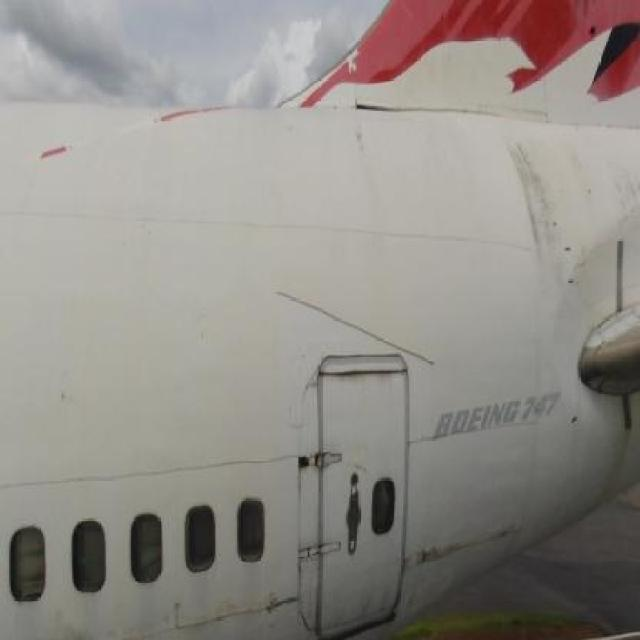Rust: (503, 134, 577, 288), (600, 138, 640, 237), (414, 528, 517, 563), (321, 365, 408, 400), (606, 399, 634, 495), (351, 568, 392, 622)
Scartch: (258, 574, 298, 623), (168, 593, 194, 638)
